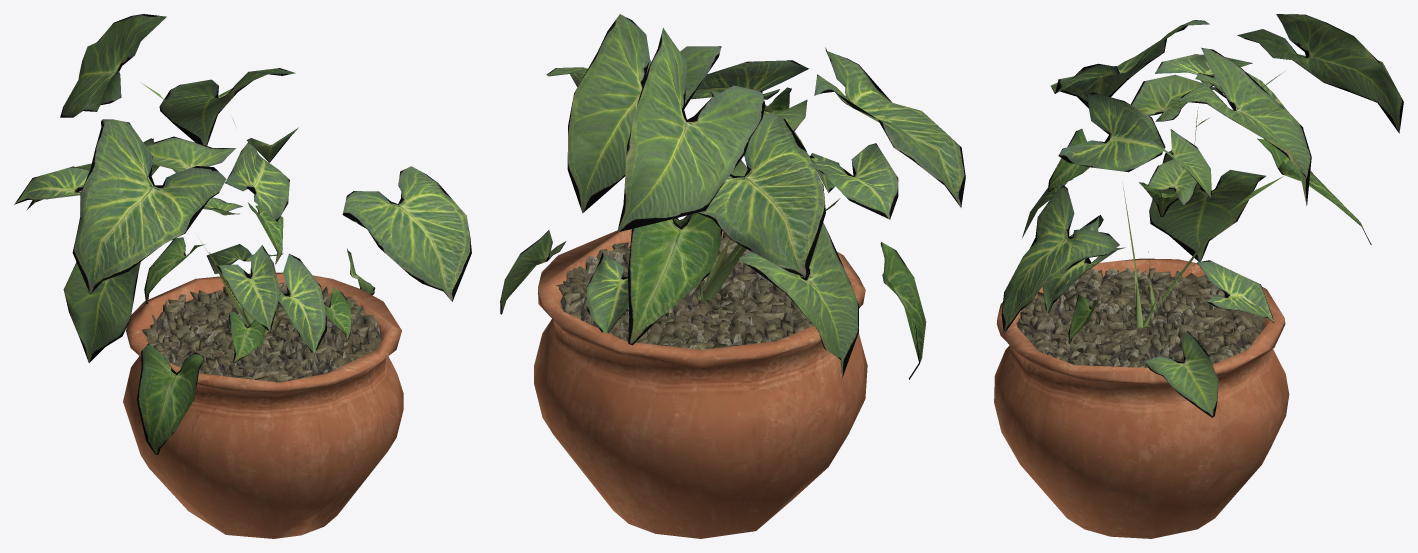
File: potted_plant_02.glb
The picture shows the model from 3 angles, left to right: view 1: azimuth 30°, elevation 25°; view 2: azimuth 150°, elevation 25°; view 3: azimuth 270°, elevation 25°; orthographic projection. The views are drawn at different scales.
Parts seen in each view (by area): view 1: potted_plant_02_leaves, potted_plant_02_pot; view 2: potted_plant_02_leaves, potted_plant_02_pot; view 3: potted_plant_02_pot, potted_plant_02_leaves.
Part boxes in pixels (<box>): potted_plant_02_leaves: <box>14,14,471,454</box>; potted_plant_02_pot: <box>123,272,403,538</box>; potted_plant_02_leaves: <box>500,14,965,379</box>; potted_plant_02_pot: <box>534,229,867,538</box>; potted_plant_02_pot: <box>994,258,1289,538</box>; potted_plant_02_leaves: <box>1001,14,1403,417</box>.
Size of the model in its own units: 0.7012 by 0.8395 by 0.6553.
Materials: 2 (2 with a texture image).
